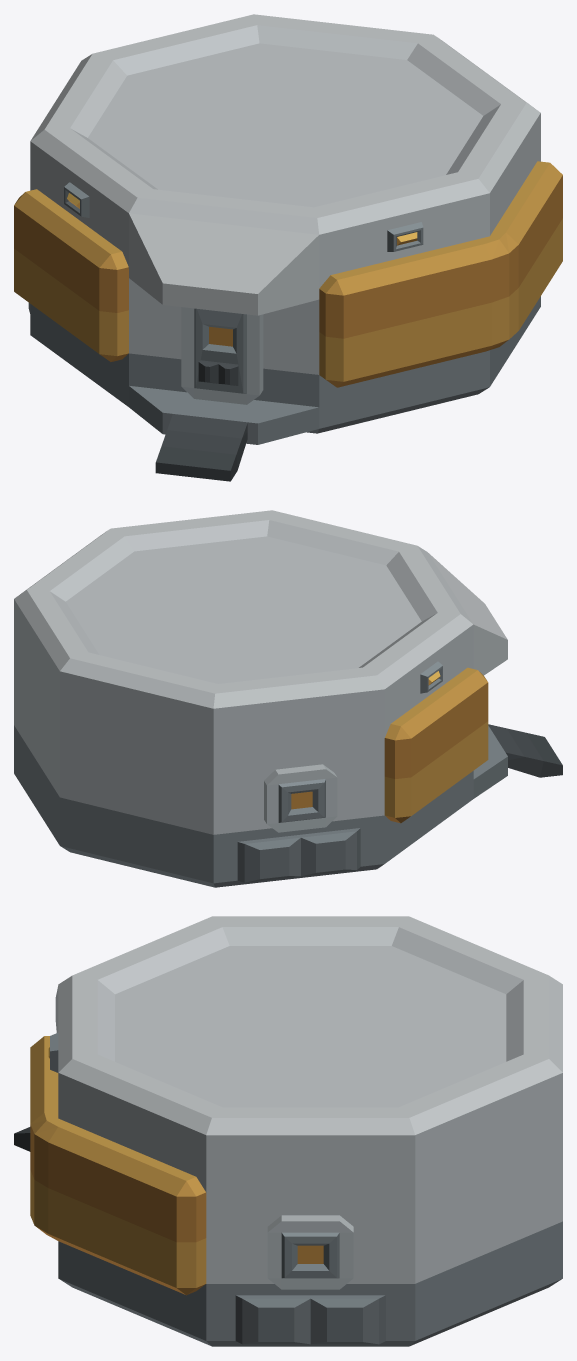
Rendered from kk_basemodule_a.obj.
The picture shows the model from 3 angles, top to bottom: view 1: azimuth 30°, elevation 25°; view 2: azimuth 150°, elevation 25°; view 3: azimuth 270°, elevation 25°; orthographic projection. The views are drawn at different scales.
Bounding box in the file's own units: 15.74 × 7 × 15.23.
